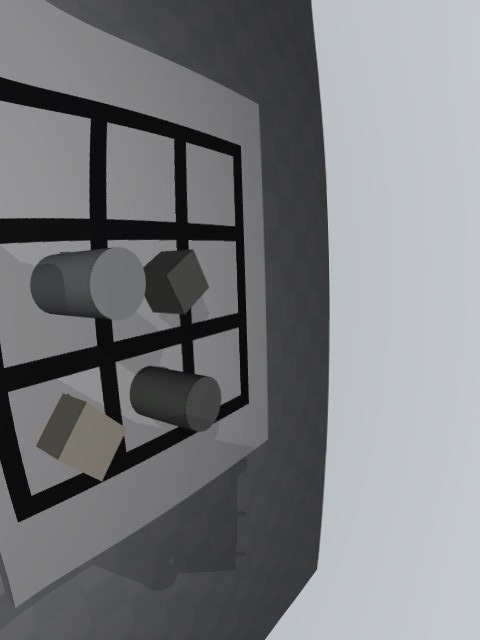can: (30, 247, 146, 320)
cube: (143, 249, 209, 315)
cylinder: (130, 366, 221, 432)
foam: (36, 394, 127, 481)
